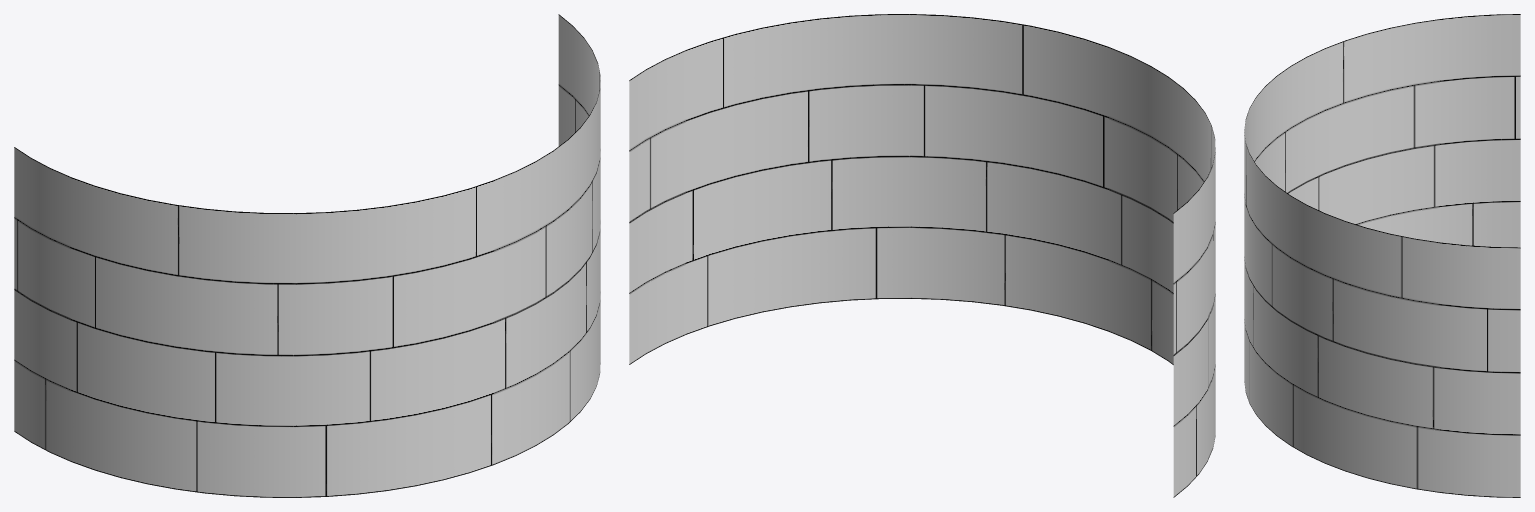
The model's file is Wall700x350xRout350cm.FBX.
3 renders of one model, left to right at view 1: azimuth 30°, elevation 25°; view 2: azimuth 150°, elevation 25°; view 3: azimuth 270°, elevation 25°, orthographic. The views are drawn at different scales.
Parts seen in each view (by area): view 1: Wall700x350xRout350cm; view 2: Wall700x350xRout350cm; view 3: Wall700x350xRout350cm.
Part boxes in pixels (bbox=[...]): Wall700x350xRout350cm: bbox=[14, 14, 600, 497]; Wall700x350xRout350cm: bbox=[629, 14, 1215, 497]; Wall700x350xRout350cm: bbox=[1244, 14, 1520, 497].
Bounding box in the file's own units: 700 × 350 × 350.
